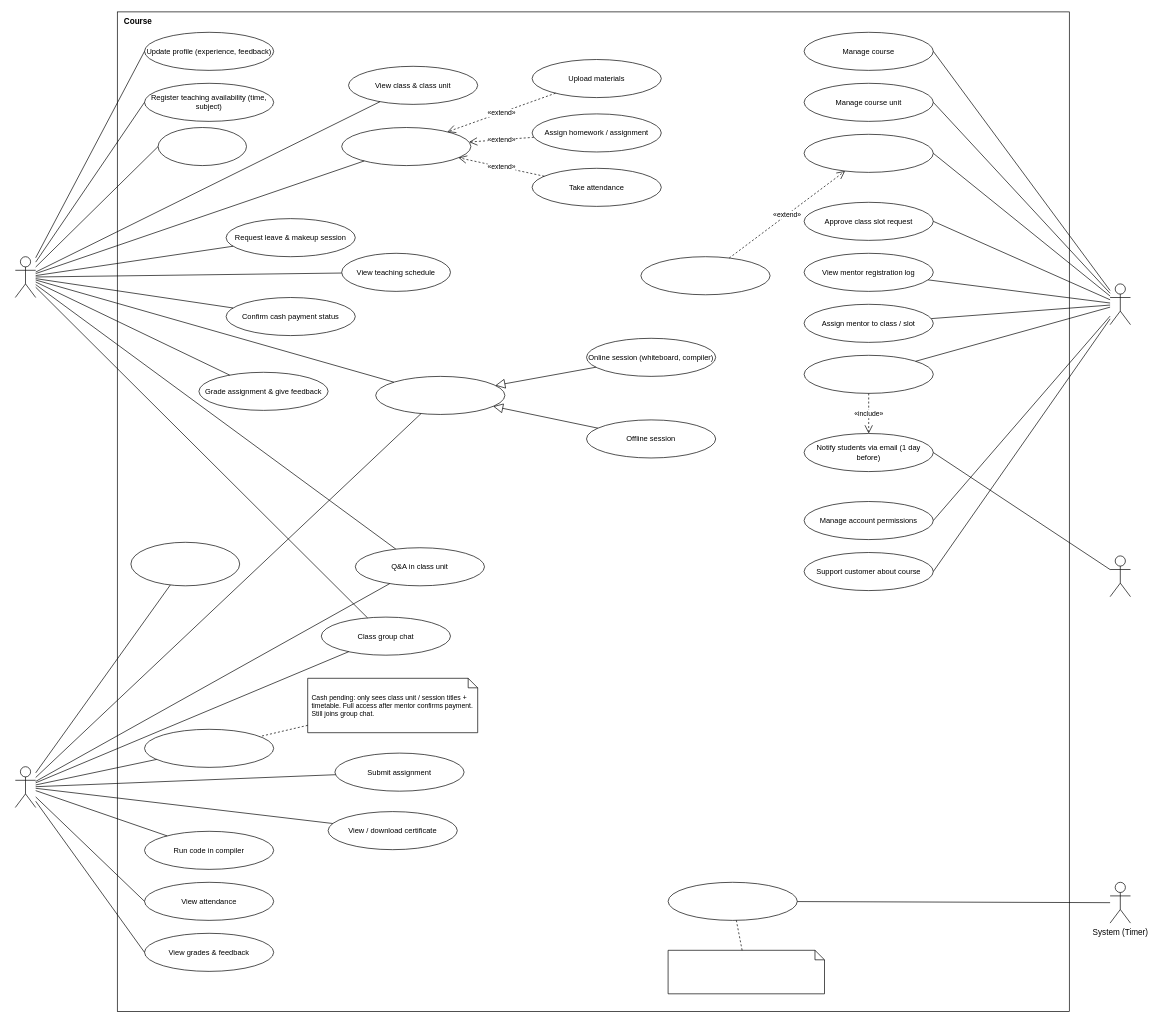
Image size: 1161x1023. Some labels were removed from this diagram. The centre of each missing label's shape, as x and y in pixels:
"Approve leave / makeup request" goes at (x=868, y=374).
"Email Service" goes at (x=1119, y=576).
"Generate completion certificate" goes at (x=732, y=901).
"Import class from course unit" goes at (x=705, y=275).
"Join class session" goes at (x=440, y=395).
"Manage class" goes at (x=868, y=153).
"Manage class session" goes at (x=406, y=146).
"Manager/Admin" goes at (x=1119, y=304).
"Mentor" goes at (x=25, y=277).
"Precondition: Attendance rate ≥ X% Average assignment score ≥ Y" goes at (x=746, y=972).
"Student" goes at (x=25, y=787).
"Take slot for class" goes at (x=202, y=146).
"View class unit & session" goes at (x=209, y=748).
"View personal timetable" goes at (x=185, y=564).
